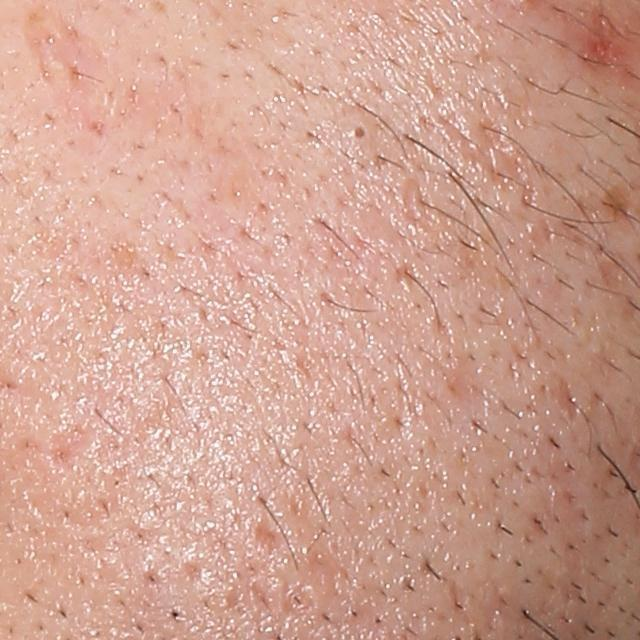atrophic_scar: (19, 8, 109, 95), (43, 423, 96, 470), (559, 370, 585, 427), (254, 519, 291, 553)
comedo: (343, 117, 379, 148)
